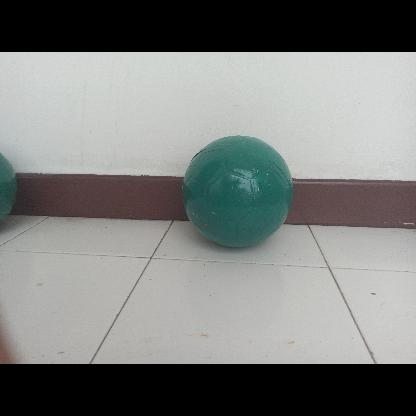green_ball: (178, 134, 294, 248)
